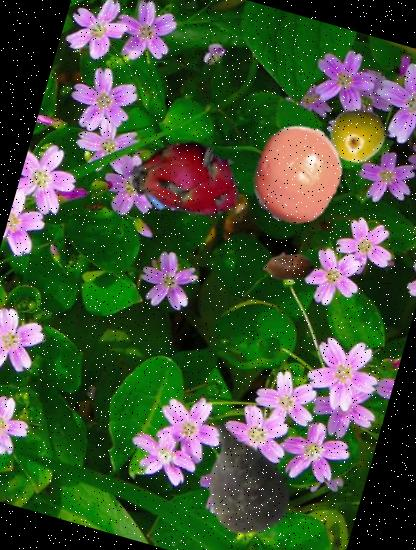Beetroot: (161, 402, 323, 550)
Clementine: (235, 112, 359, 236)
Maracuja: (322, 98, 394, 171)
Nut: (256, 236, 319, 298)
Pitahaya: (113, 110, 256, 252)
